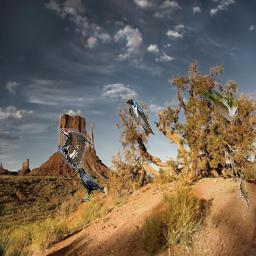Crow: (75, 167, 105, 201)
Cuckoo: (198, 90, 238, 121), (237, 178, 249, 207)
Swallow: (125, 99, 155, 135)
Woodpecker: (57, 128, 95, 168)
